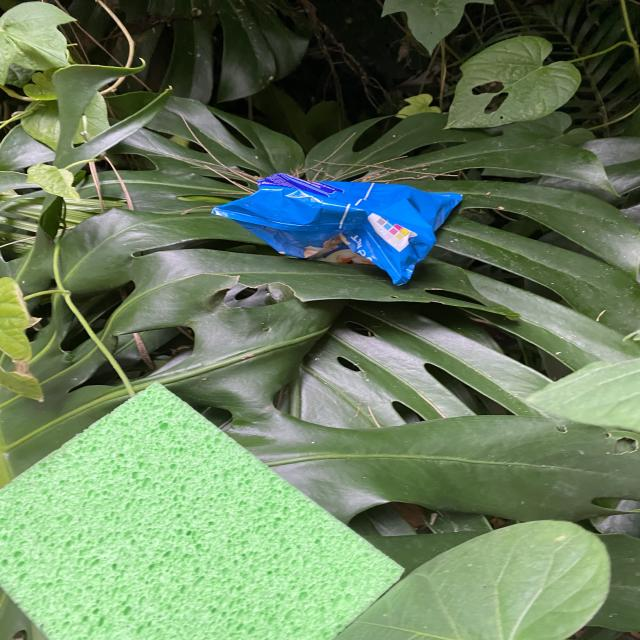bag: (210, 173, 464, 285)
